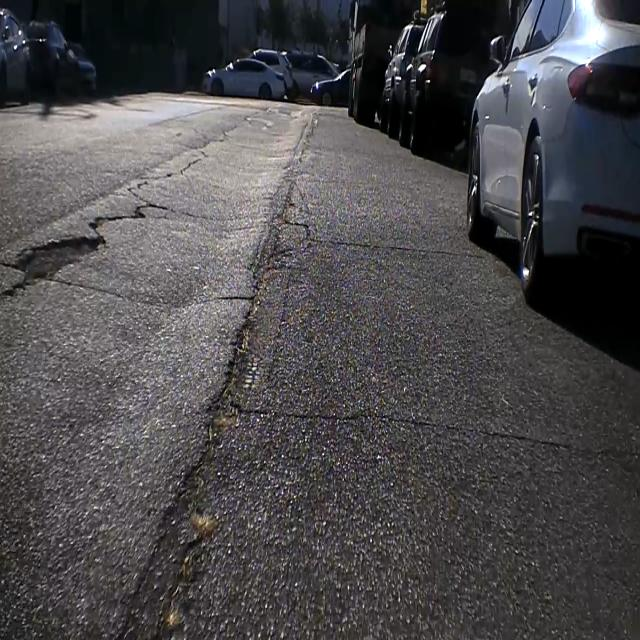Pothole: (8, 221, 107, 305)
